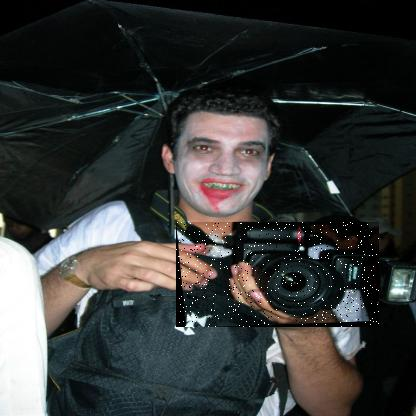Camera: (177, 223, 381, 329)
